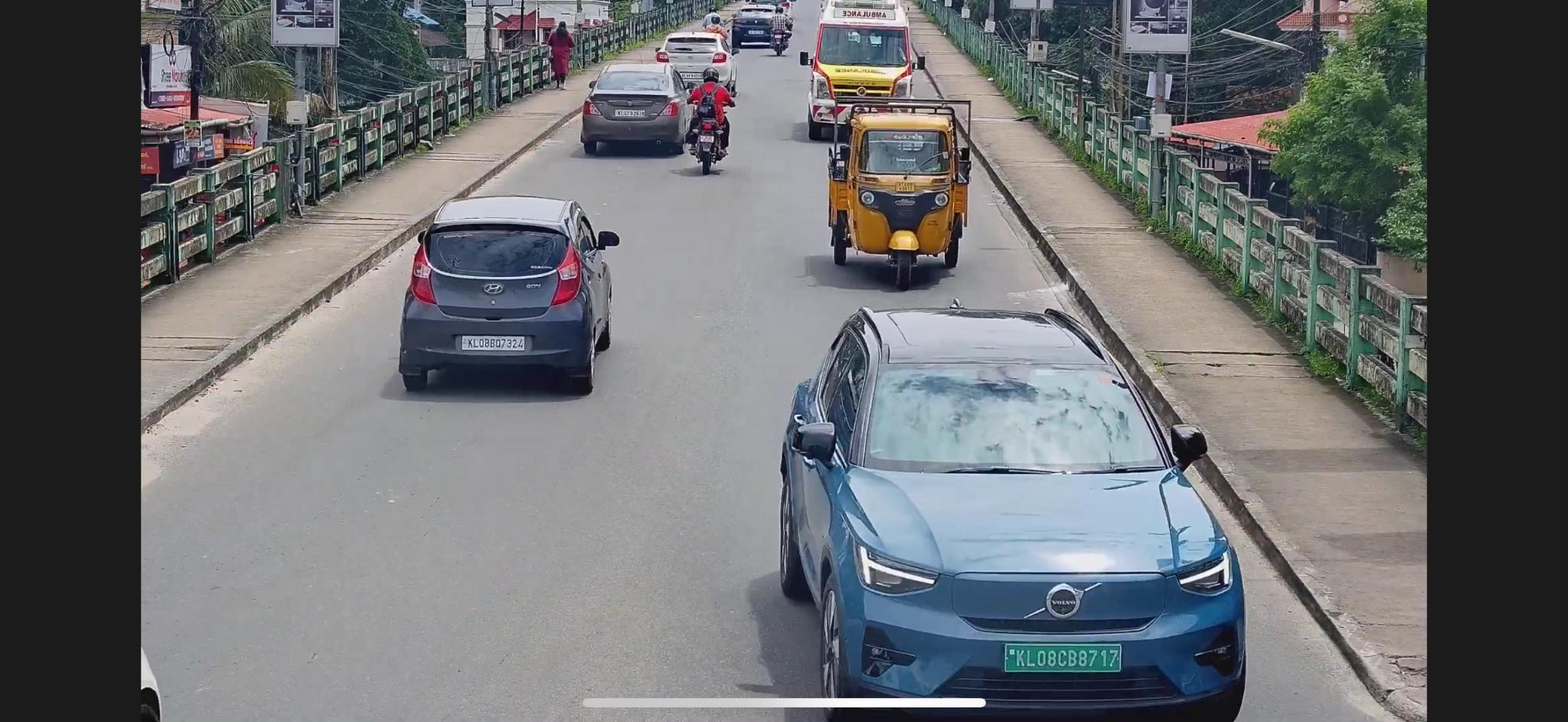ambulance: (811, 0, 913, 106)
